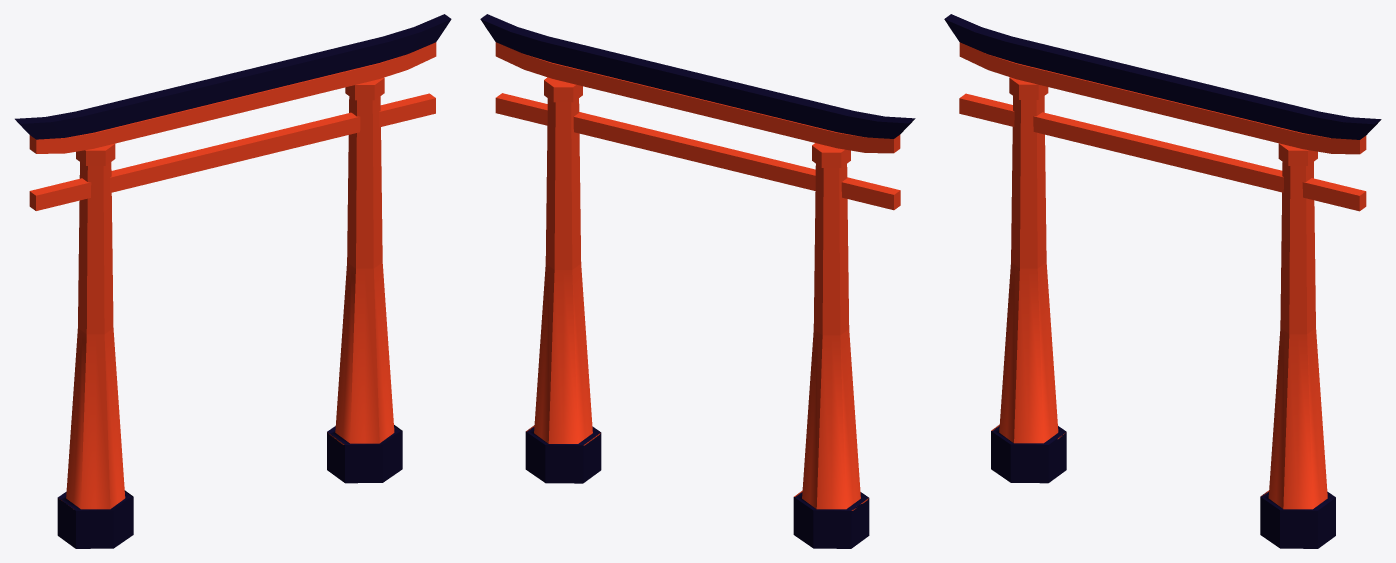
Rendered from Sketchfab_2017_04_12_11_41_48.fbx.
3 renders of one model, left to right at view 1: azimuth 30°, elevation 25°; view 2: azimuth 150°, elevation 25°; view 3: azimuth 330°, elevation 25°, orthographic.
Parts seen in each view (by area): view 1: Cylinder.001; view 2: Cylinder.001; view 3: Cylinder.001.
Part boxes in pixels (<box>): Cylinder.001: <box>15,14,451,548</box>; Cylinder.001: <box>480,14,915,548</box>; Cylinder.001: <box>944,14,1381,548</box>.
Bounding box in the file's own units: 1785 × 1722 × 260.
